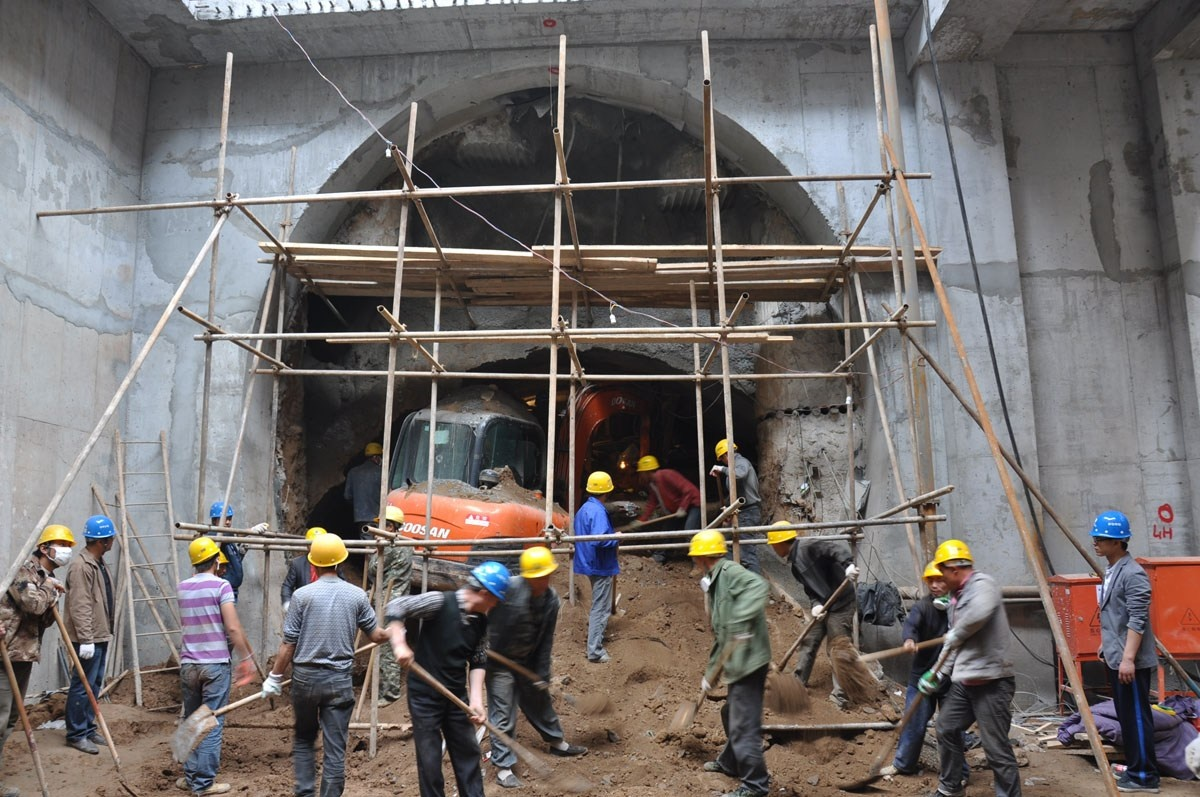blue: (460, 560, 507, 616), (1088, 507, 1132, 561), (81, 513, 116, 555), (208, 499, 234, 530)
yellow: (30, 522, 74, 569), (686, 526, 728, 574), (935, 536, 973, 587), (518, 547, 559, 591), (307, 532, 345, 577), (762, 519, 797, 557), (187, 537, 220, 574), (920, 559, 948, 598), (585, 471, 613, 501), (378, 505, 405, 534), (639, 455, 661, 481), (714, 437, 736, 463), (362, 441, 382, 462)
